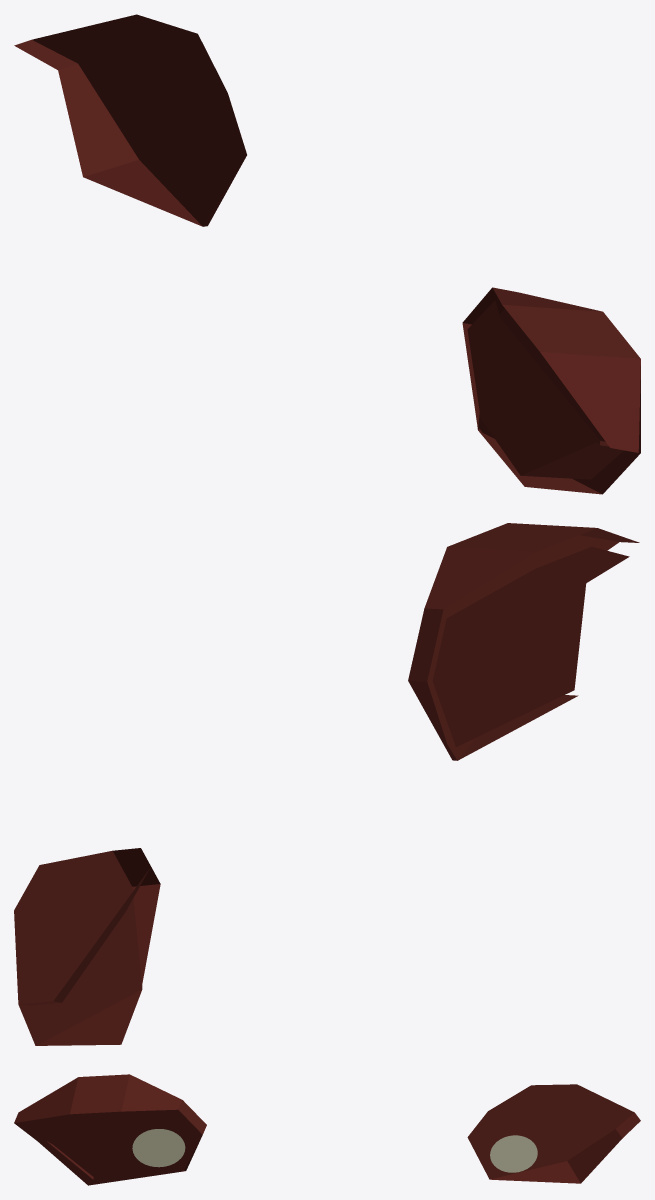
The model's file is DonnyEyes.glb.
3 renders of one model, top to bottom at view 1: azimuth 30°, elevation 25°; view 2: azimuth 150°, elevation 25°; view 3: azimuth 270°, elevation 25°, orthographic. The views are drawn at different scales.
Parts seen in each view (by area): view 1: DonnyEyes; view 2: DonnyEyes; view 3: DonnyEyes.
Part boxes in pixels (x1,y1,x2,y2): DonnyEyes: (14, 14, 640, 494); DonnyEyes: (14, 523, 639, 1045); DonnyEyes: (14, 1074, 640, 1185).
Bounding box in the file's own units: 0.4091 × 0.5854 × 3.48.
